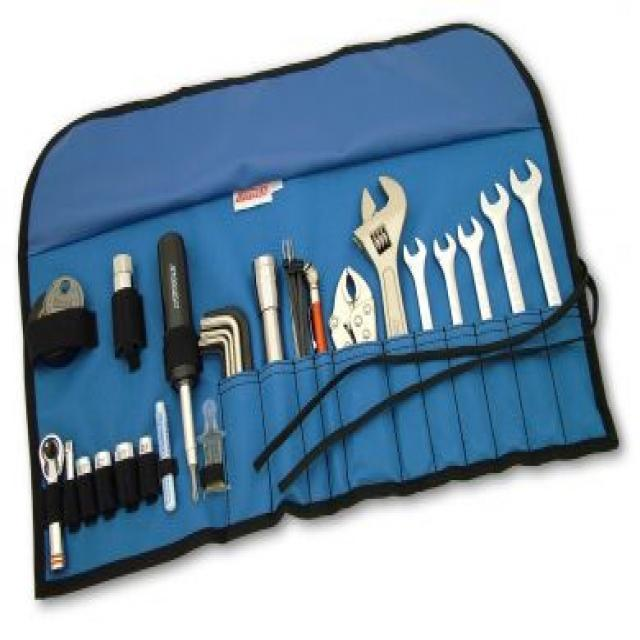screwdriver: (156, 234, 203, 506)
wrench: (352, 171, 421, 375), (510, 162, 560, 314), (478, 178, 526, 334), (457, 212, 492, 342), (402, 230, 434, 346), (432, 228, 460, 346)
